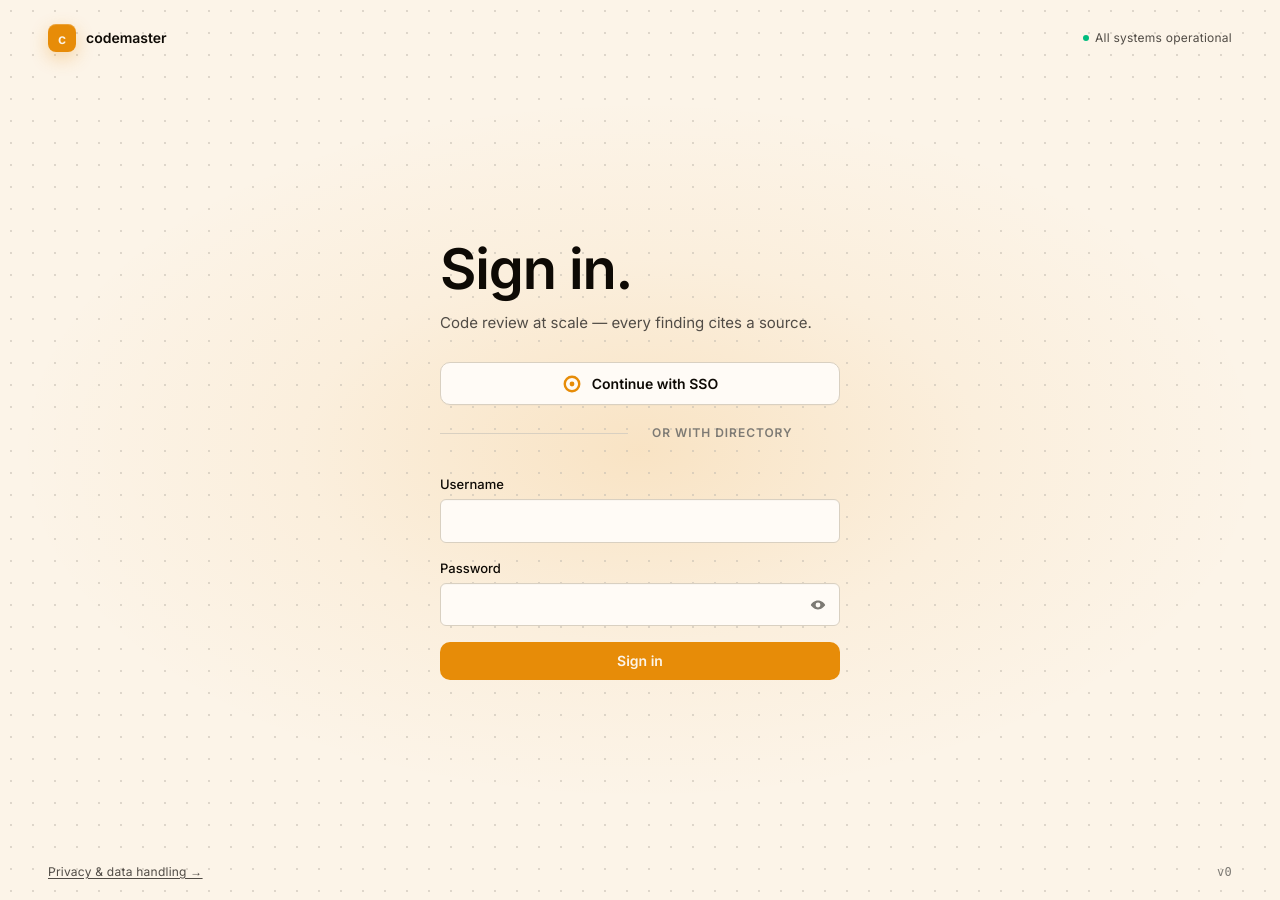
it: LoginPage affordances (X.2) › show/hide password toggle flips input type
The width and height of the screenshot is (1280, 900).
Click the button named "show password" at (818, 604), box [806,592,830,616]
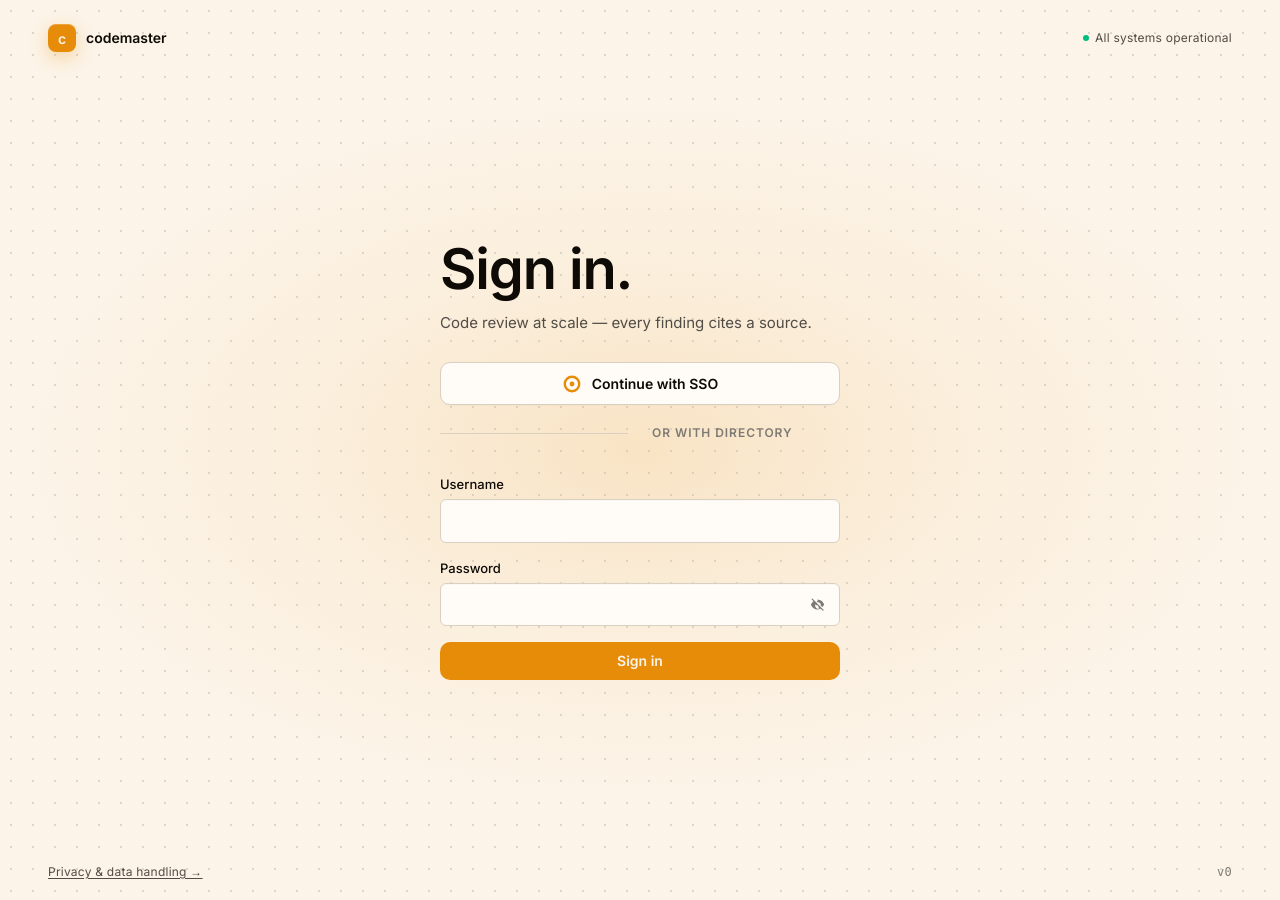
Result: the button named "hide password" is shown at [806,592,830,616]
